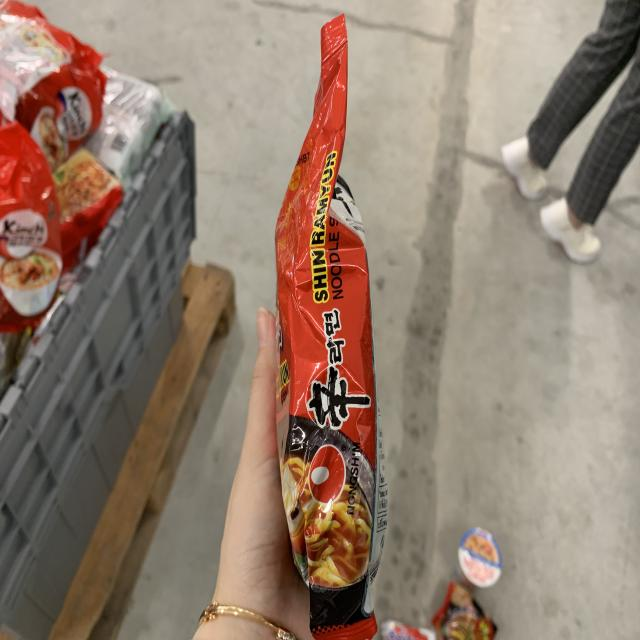object_name: (277, 21, 388, 602)
